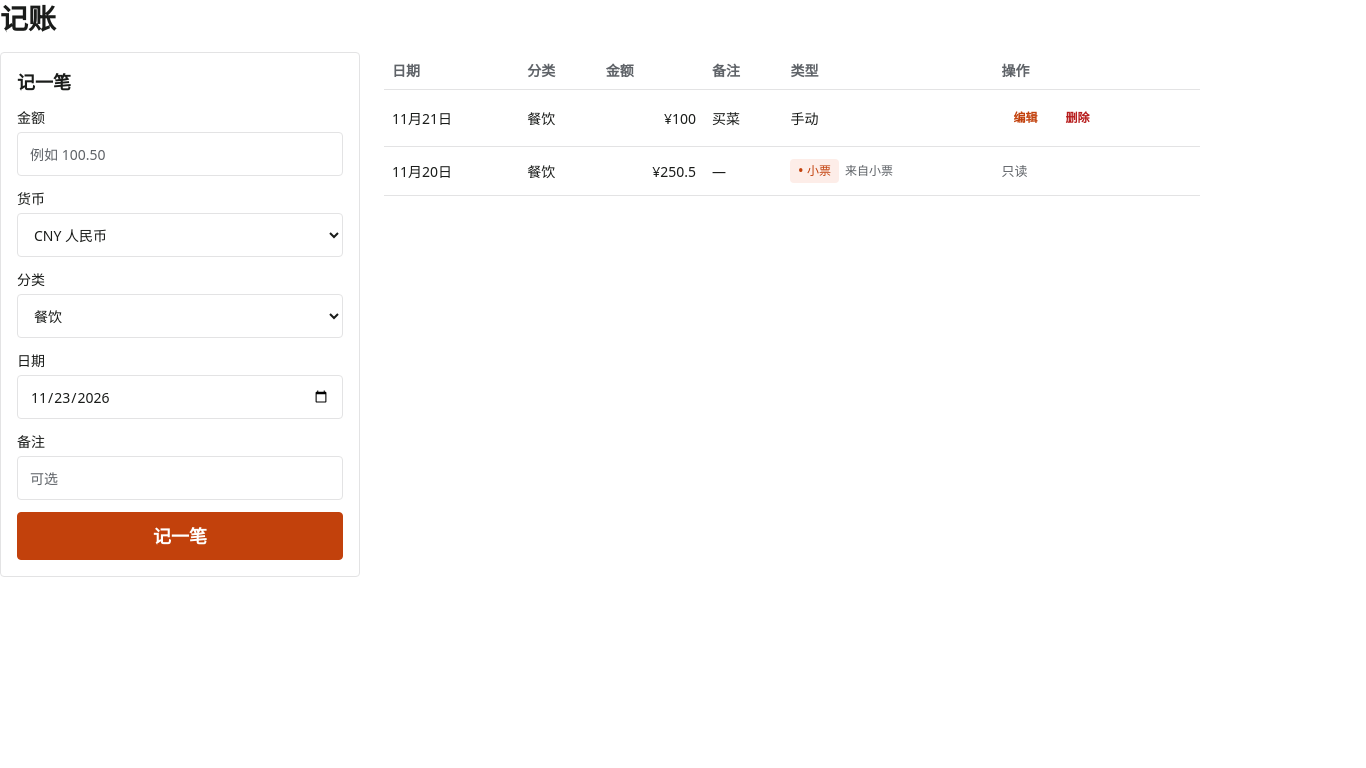
Scenario: TransactionsPage › Escape closes the edit dialog; backdrop click closes the delete dialog (Phase 4, F-08)
The width and height of the screenshot is (1366, 768).
Expected: the text "¥100" is shown, [598, 90, 704, 146]
Click the button "编辑".
click(1025, 118)  # box [1001, 102, 1049, 134]
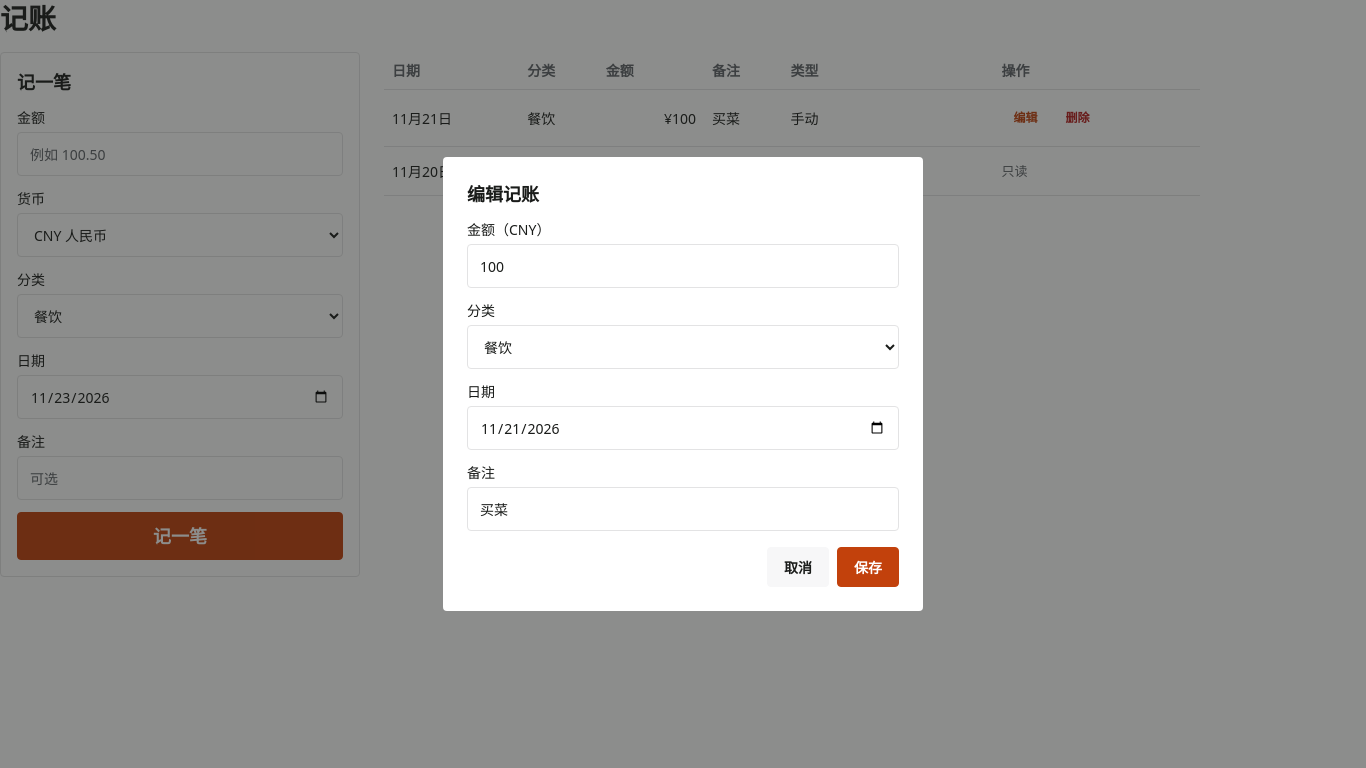
Expected: the dialog "编辑记账" is shown, [443, 157, 923, 611]
Press Escape
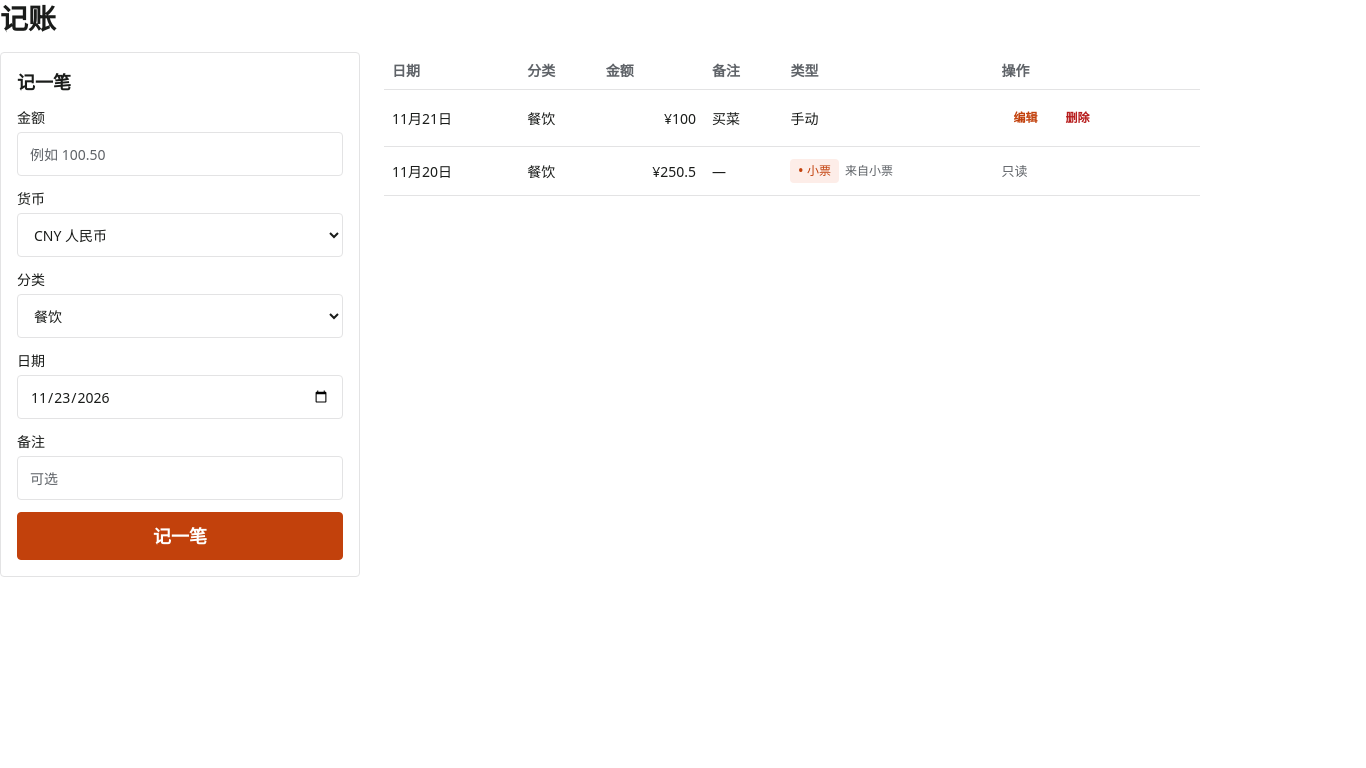
Expected: the heading "编辑记账" is gone
Click the button "删除".
click(1078, 118)  # box [1054, 102, 1102, 134]
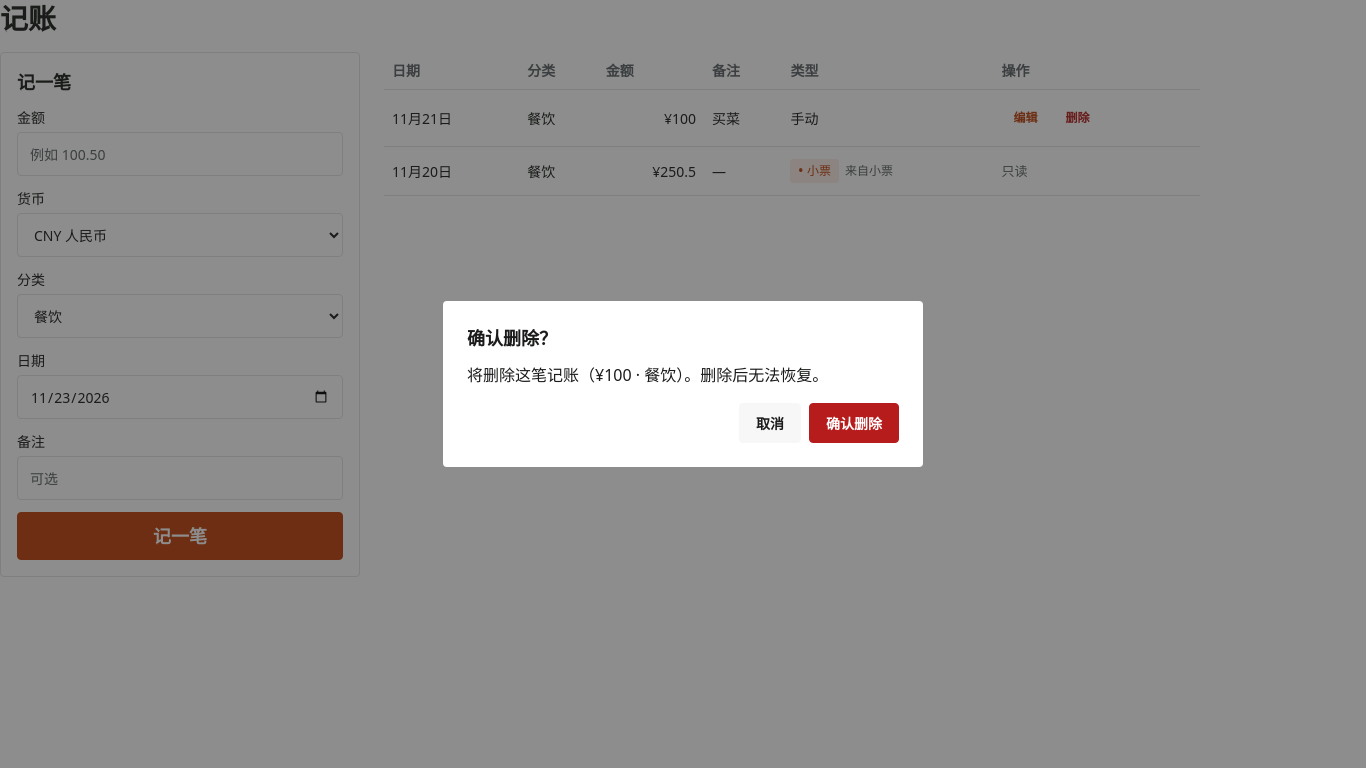
Expected: the dialog "确认删除" is shown, [443, 301, 923, 467]
Click the element with class "dialog-backdrop".
click(82, 384)  # box [0, 0, 1365, 767]
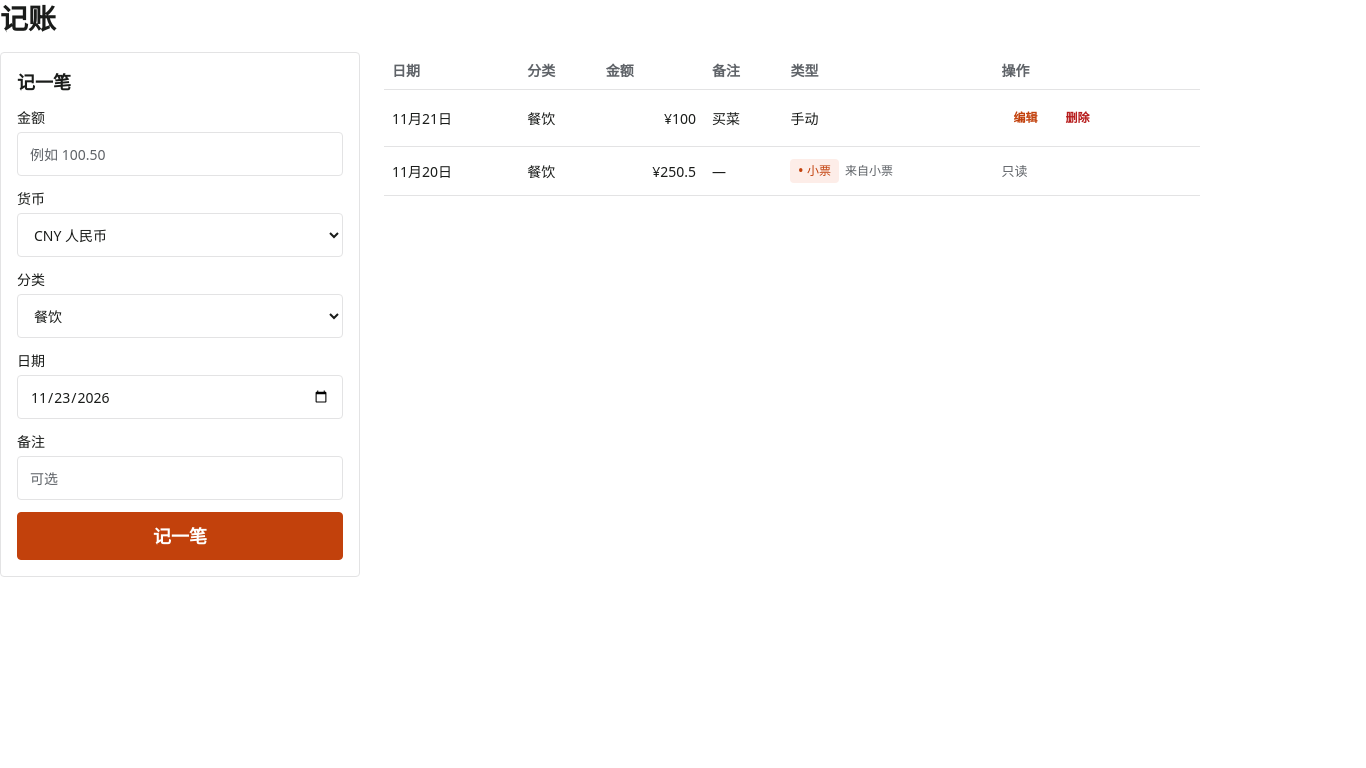
Expected: the heading "确认删除" is gone
